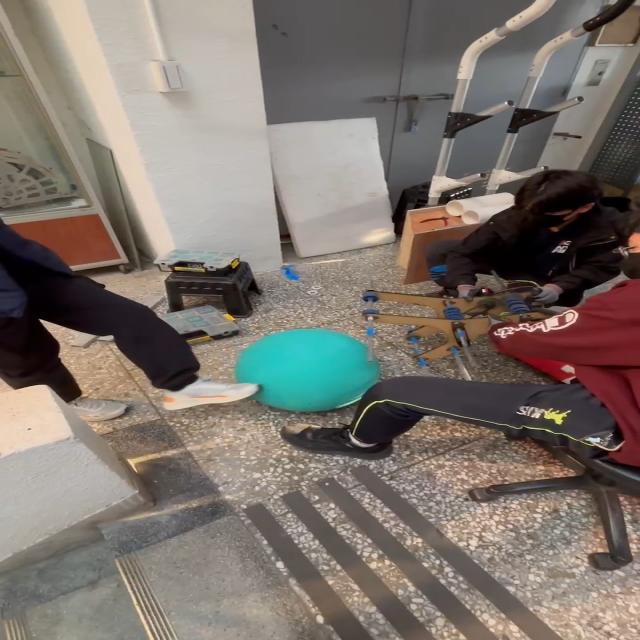ALGAE: (232, 327, 380, 413)
